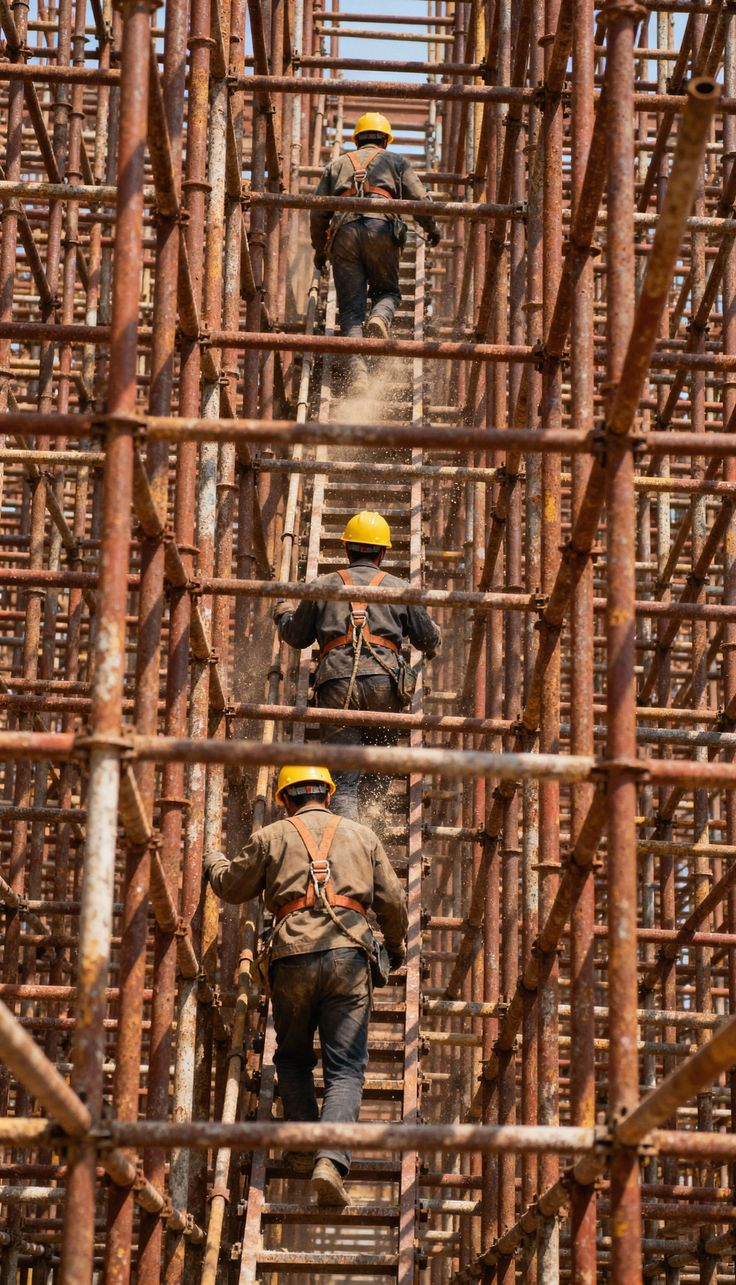hardhat: (242, 736, 343, 806), (315, 508, 410, 559), (343, 104, 410, 152)
no_safety_vest: (223, 810, 395, 948), (281, 561, 423, 669), (322, 147, 432, 246)
person: (192, 715, 410, 1177), (246, 506, 443, 808), (305, 95, 441, 410)
